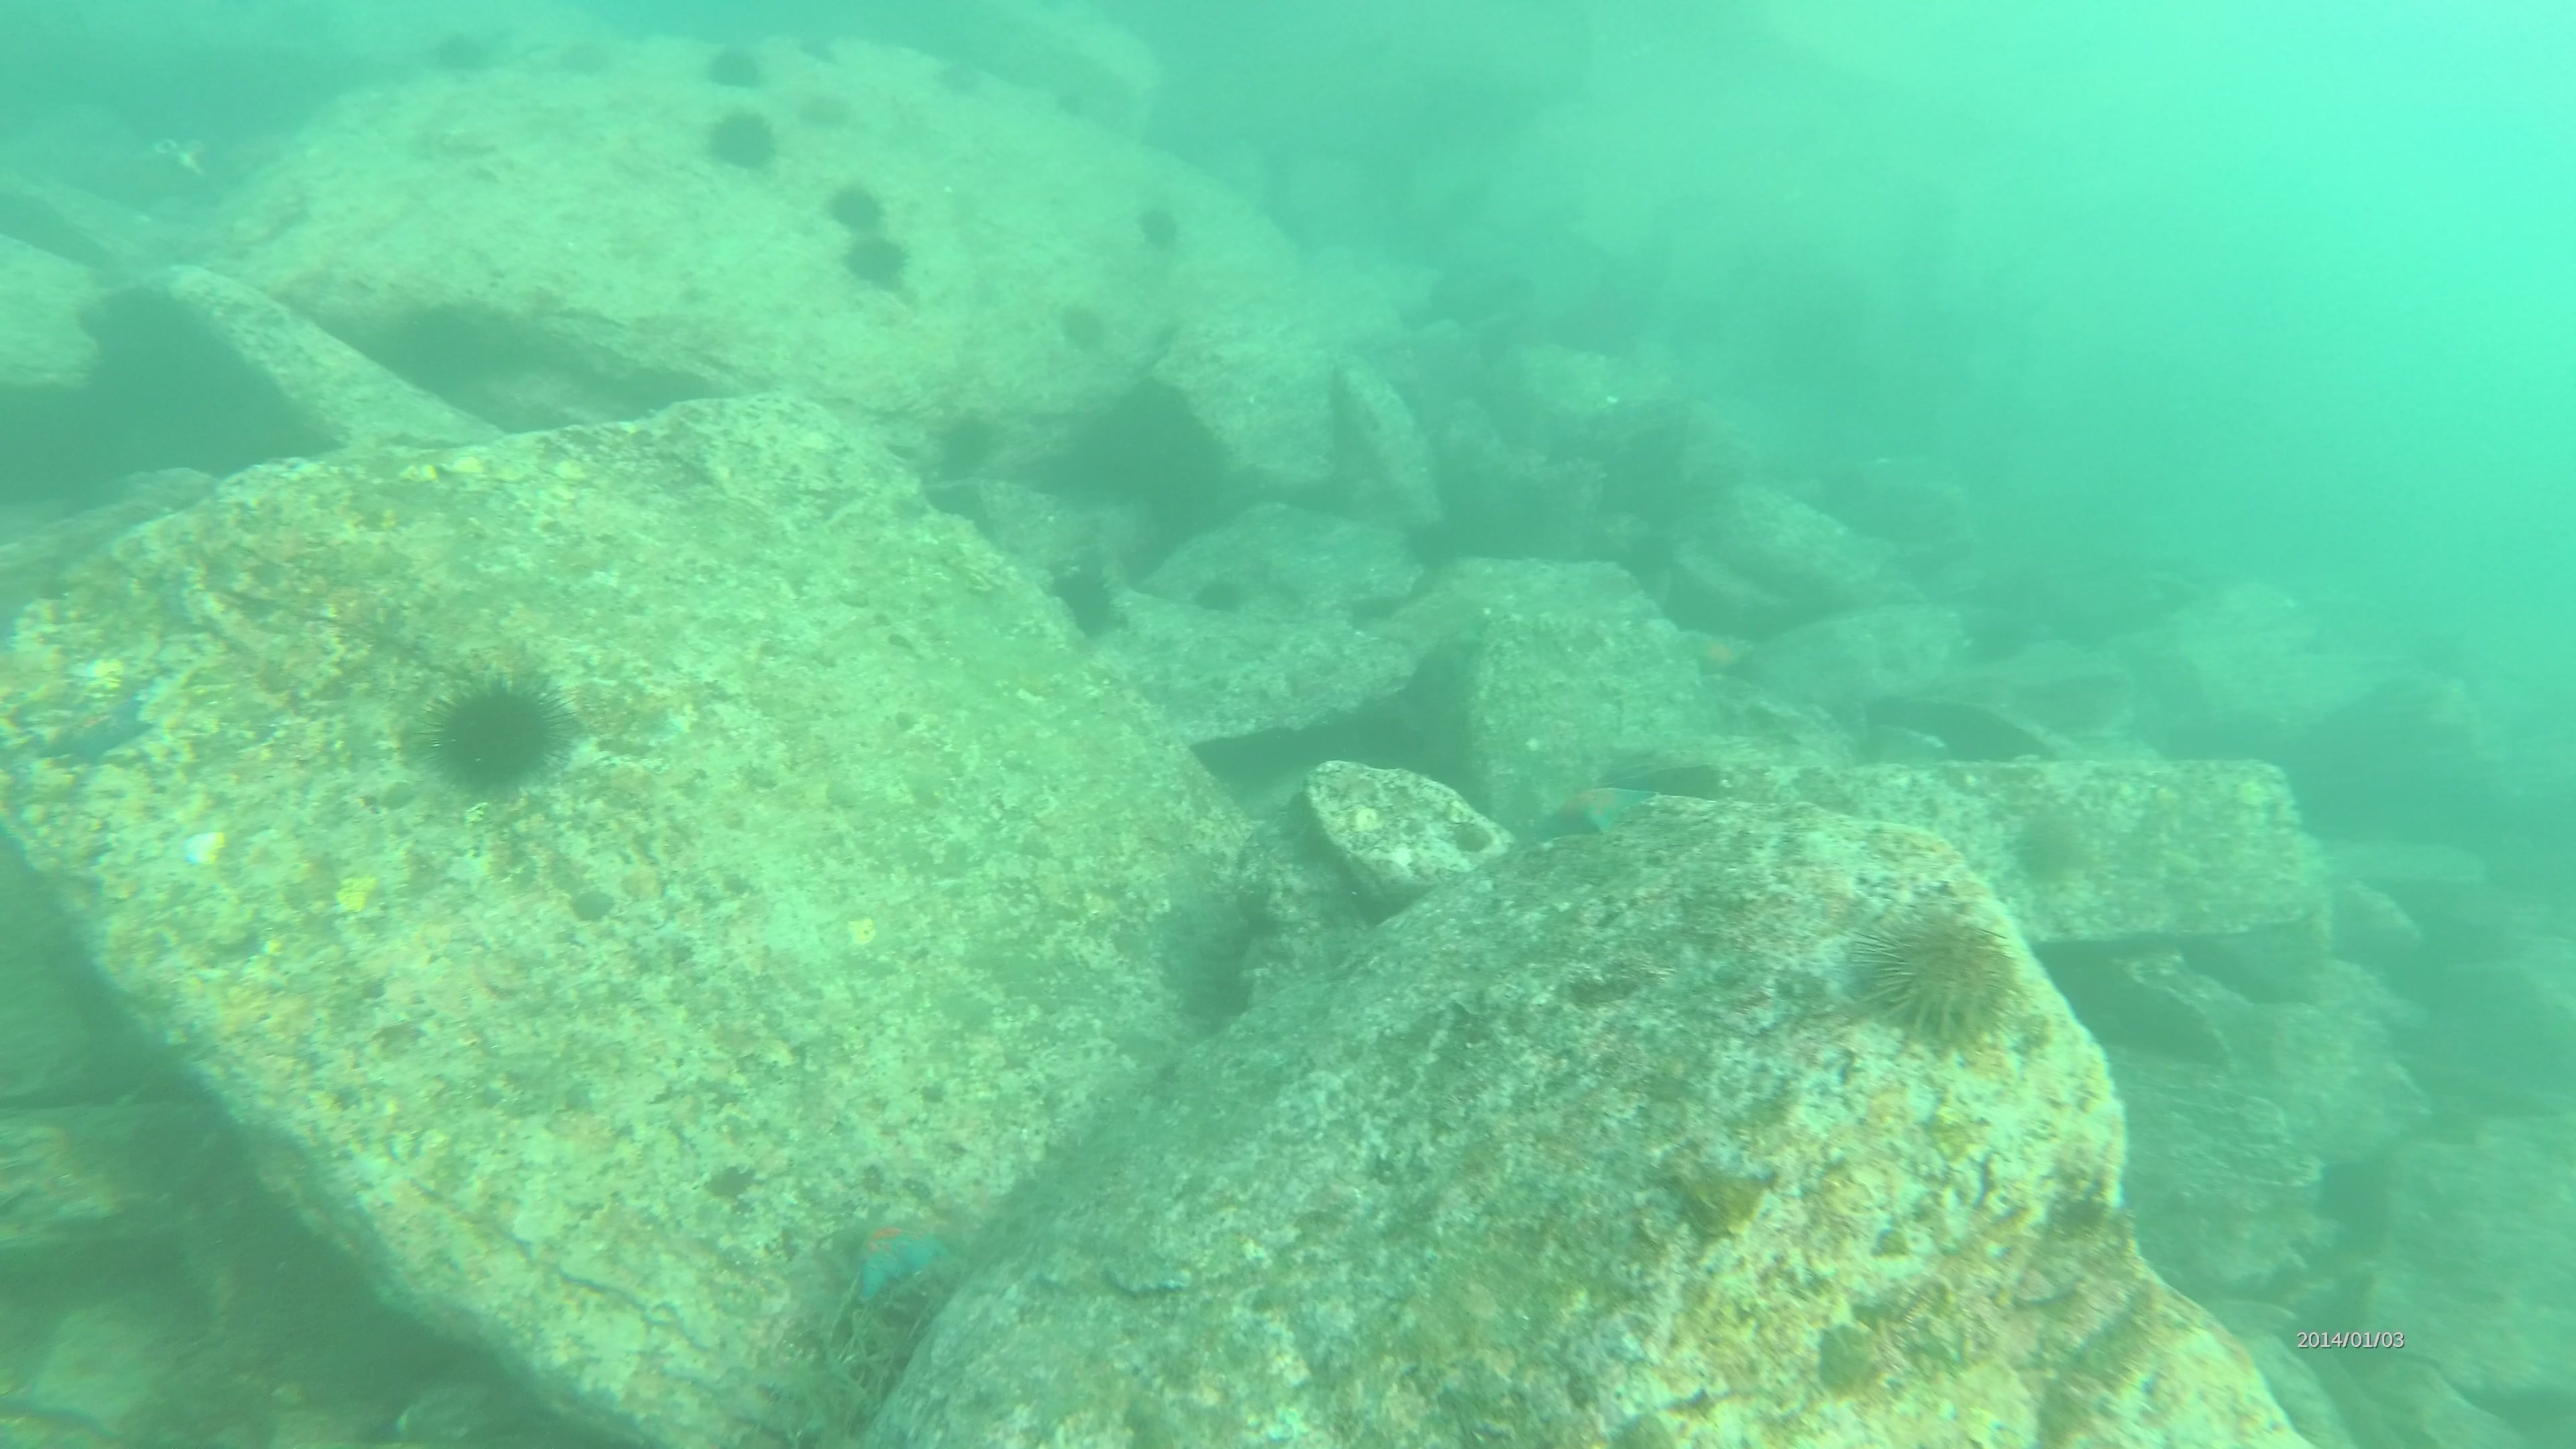echinus: (1854, 895, 2022, 1053), (421, 667, 571, 800), (2309, 1146, 2401, 1249), (2003, 801, 2091, 892), (1044, 552, 1131, 644), (925, 403, 1005, 485), (699, 103, 784, 179), (835, 225, 916, 297), (823, 177, 893, 244), (425, 25, 502, 85), (927, 44, 996, 103), (699, 37, 770, 94), (552, 28, 621, 85), (1053, 295, 1113, 357), (1187, 566, 1254, 621), (1131, 195, 1189, 257)
starfish: (824, 1198, 957, 1309), (1523, 773, 1658, 849), (41, 688, 156, 771), (1677, 623, 1760, 688), (1661, 755, 1736, 800)
